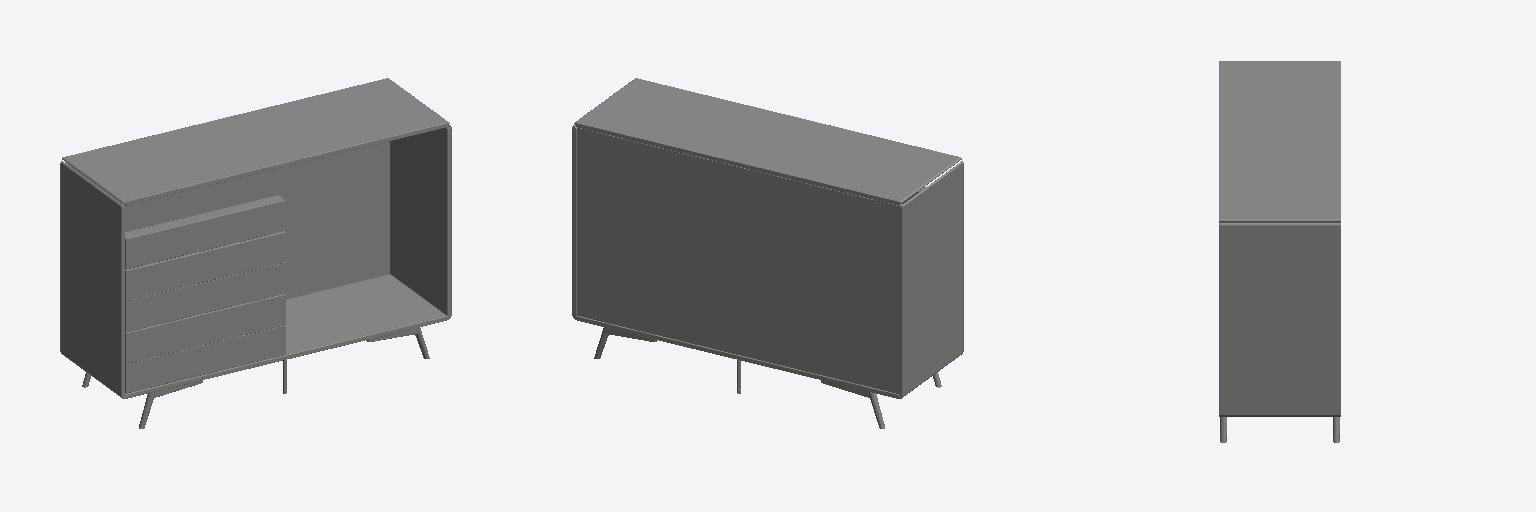
The model's file is Buro.obj.
3 renders of one model, left to right at view 1: azimuth 30°, elevation 25°; view 2: azimuth 150°, elevation 25°; view 3: azimuth 270°, elevation 25°, orthographic.
Parts seen in each view (by area): view 1: FermoDoubleDresser_obj; view 2: FermoDoubleDresser_obj; view 3: FermoDoubleDresser_obj.
Part boxes in pixels (left/top/right/bottom): FermoDoubleDresser_obj: left=60, top=78, right=451, bottom=428; FermoDoubleDresser_obj: left=572, top=78, right=963, bottom=428; FermoDoubleDresser_obj: left=1219, top=61, right=1340, bottom=442.
Bounding box in the file's own units: 1.5 × 1.01 × 0.48.